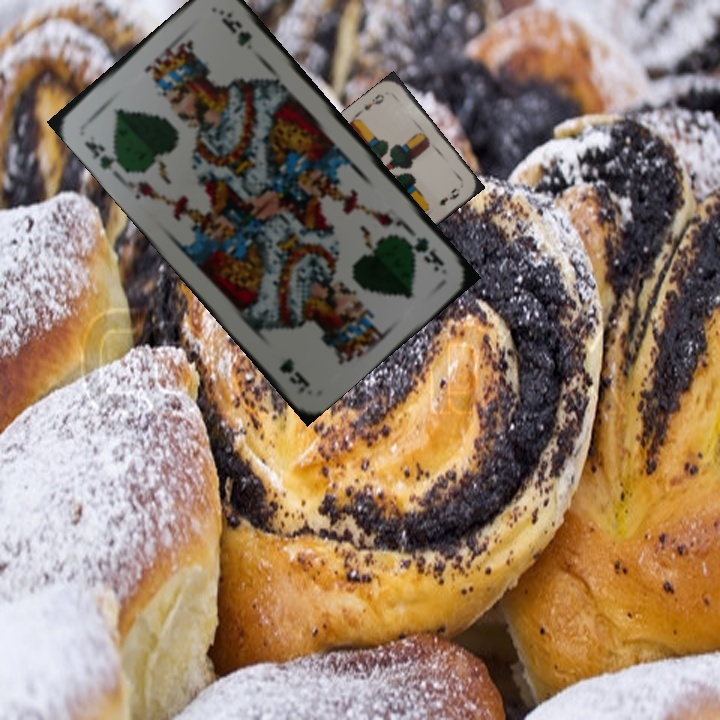E9: (354, 90, 387, 117)
GK: (400, 231, 447, 274), (80, 136, 124, 173)
